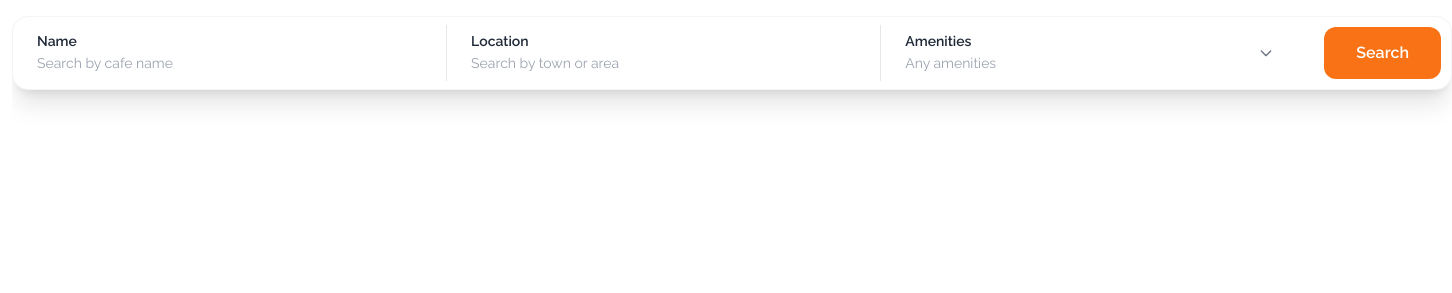
Scenario: CafeFilters Component › Amenities Dropdown › should toggle the amenities dropdown when the button is clicked
Step 1. Click the button with aria-label "amenities-dropdown" → (938,41), box [881,17,1314,89]
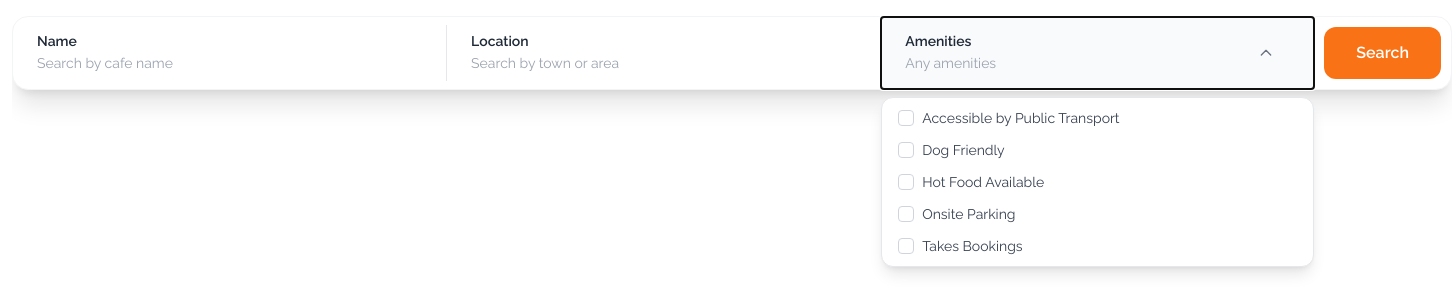
Expected: the list named "amenities-list" is shown, [881,97,1314,267]
// Simulate clicking the toggle button
Step 2. Click the button with aria-label "amenities-dropdown" → (938,41), box [881,17,1314,89]
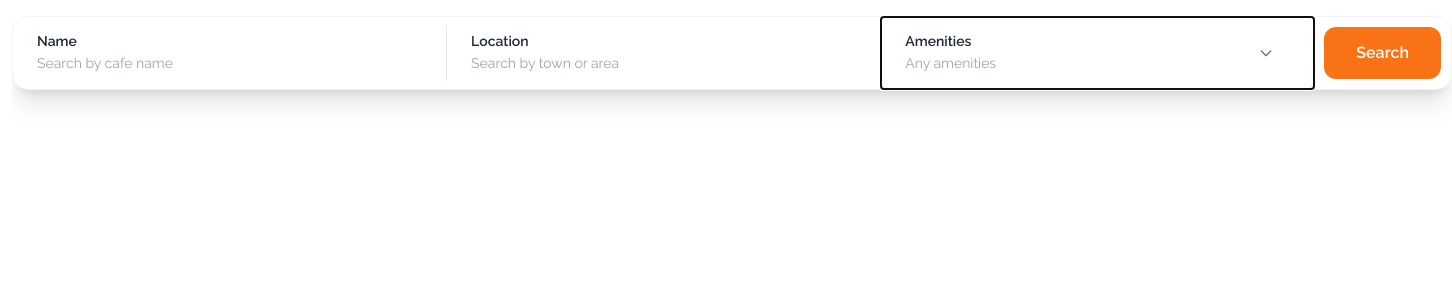
Expected: the list "amenities-list" is gone
